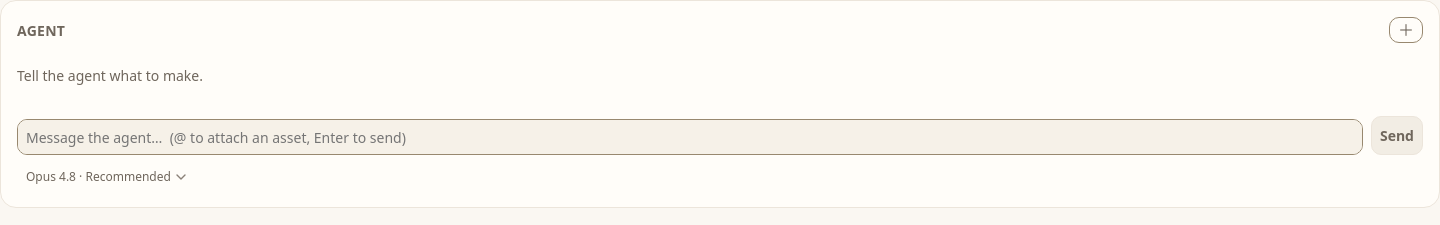
Scenario: ChatPanel @ mention menu › Tab selects too, and the caret lands after the inserted token
The image size is (1440, 225).
Type "use @hoo for the opener" into the dropdown with class "composer-input" at [690, 137], box [17,119,1363,155]
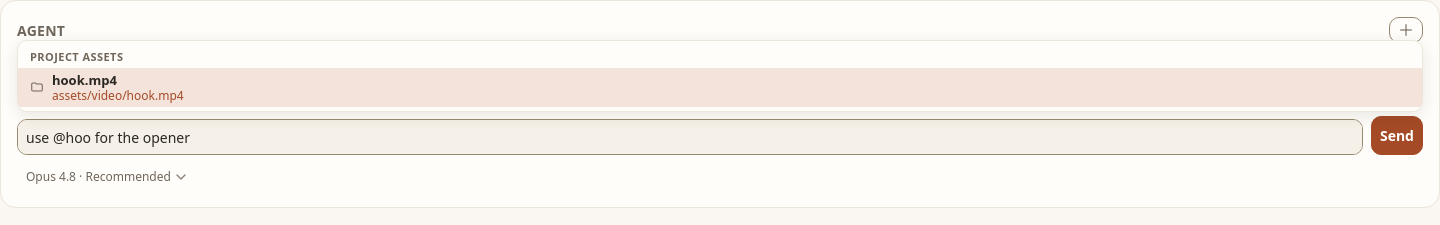
Press Tab in the dropdown with class "composer-input", box [17,119,1363,155]
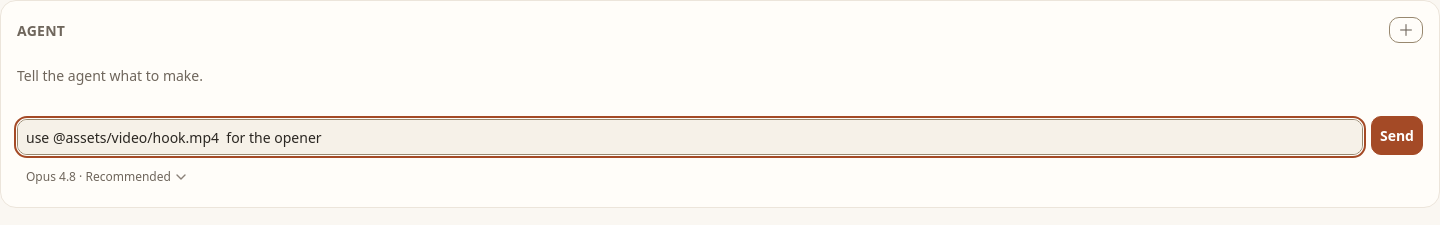
Expected: the dropdown with class "composer-input" holds "use @assets/video/hook.mp4  for the opener", [17,119,1363,155]
